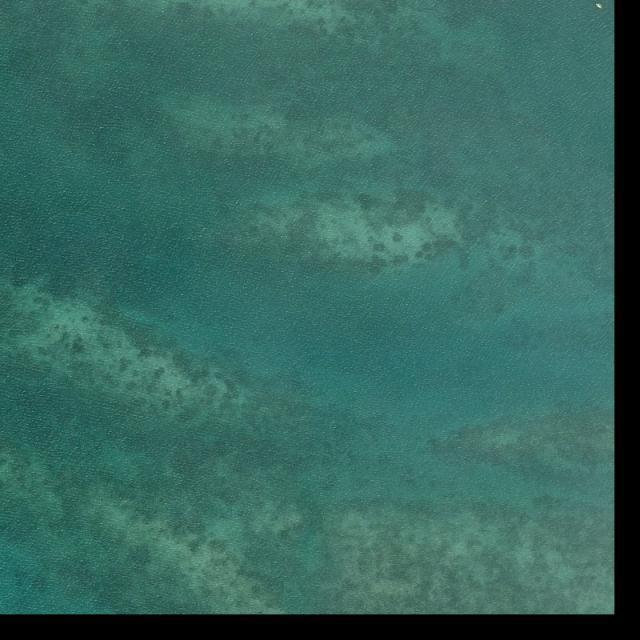ship: (594, 3, 603, 10)
